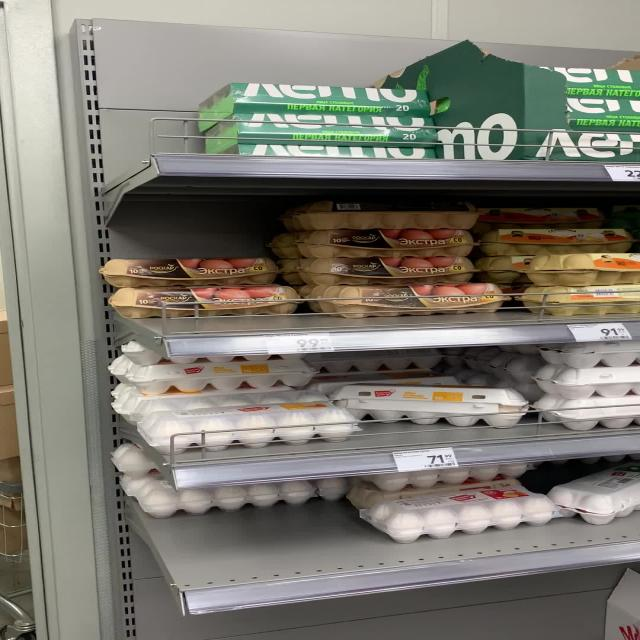egg box: (129, 401, 345, 444), (202, 132, 444, 169), (364, 485, 543, 528), (354, 377, 515, 424), (281, 188, 473, 227), (212, 76, 423, 111), (210, 105, 432, 138), (298, 280, 506, 315), (278, 245, 473, 281), (257, 222, 463, 250), (89, 248, 268, 280), (101, 287, 288, 317), (473, 222, 624, 250), (482, 200, 605, 225)
